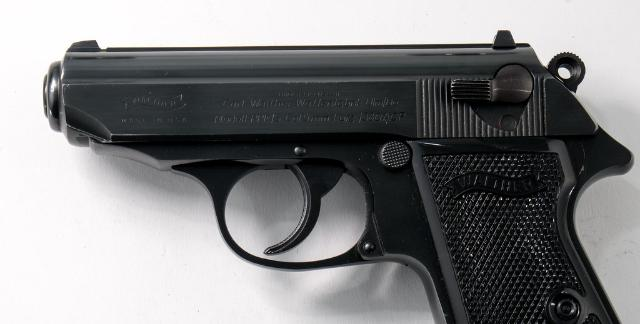handgun: (38, 24, 640, 324)
